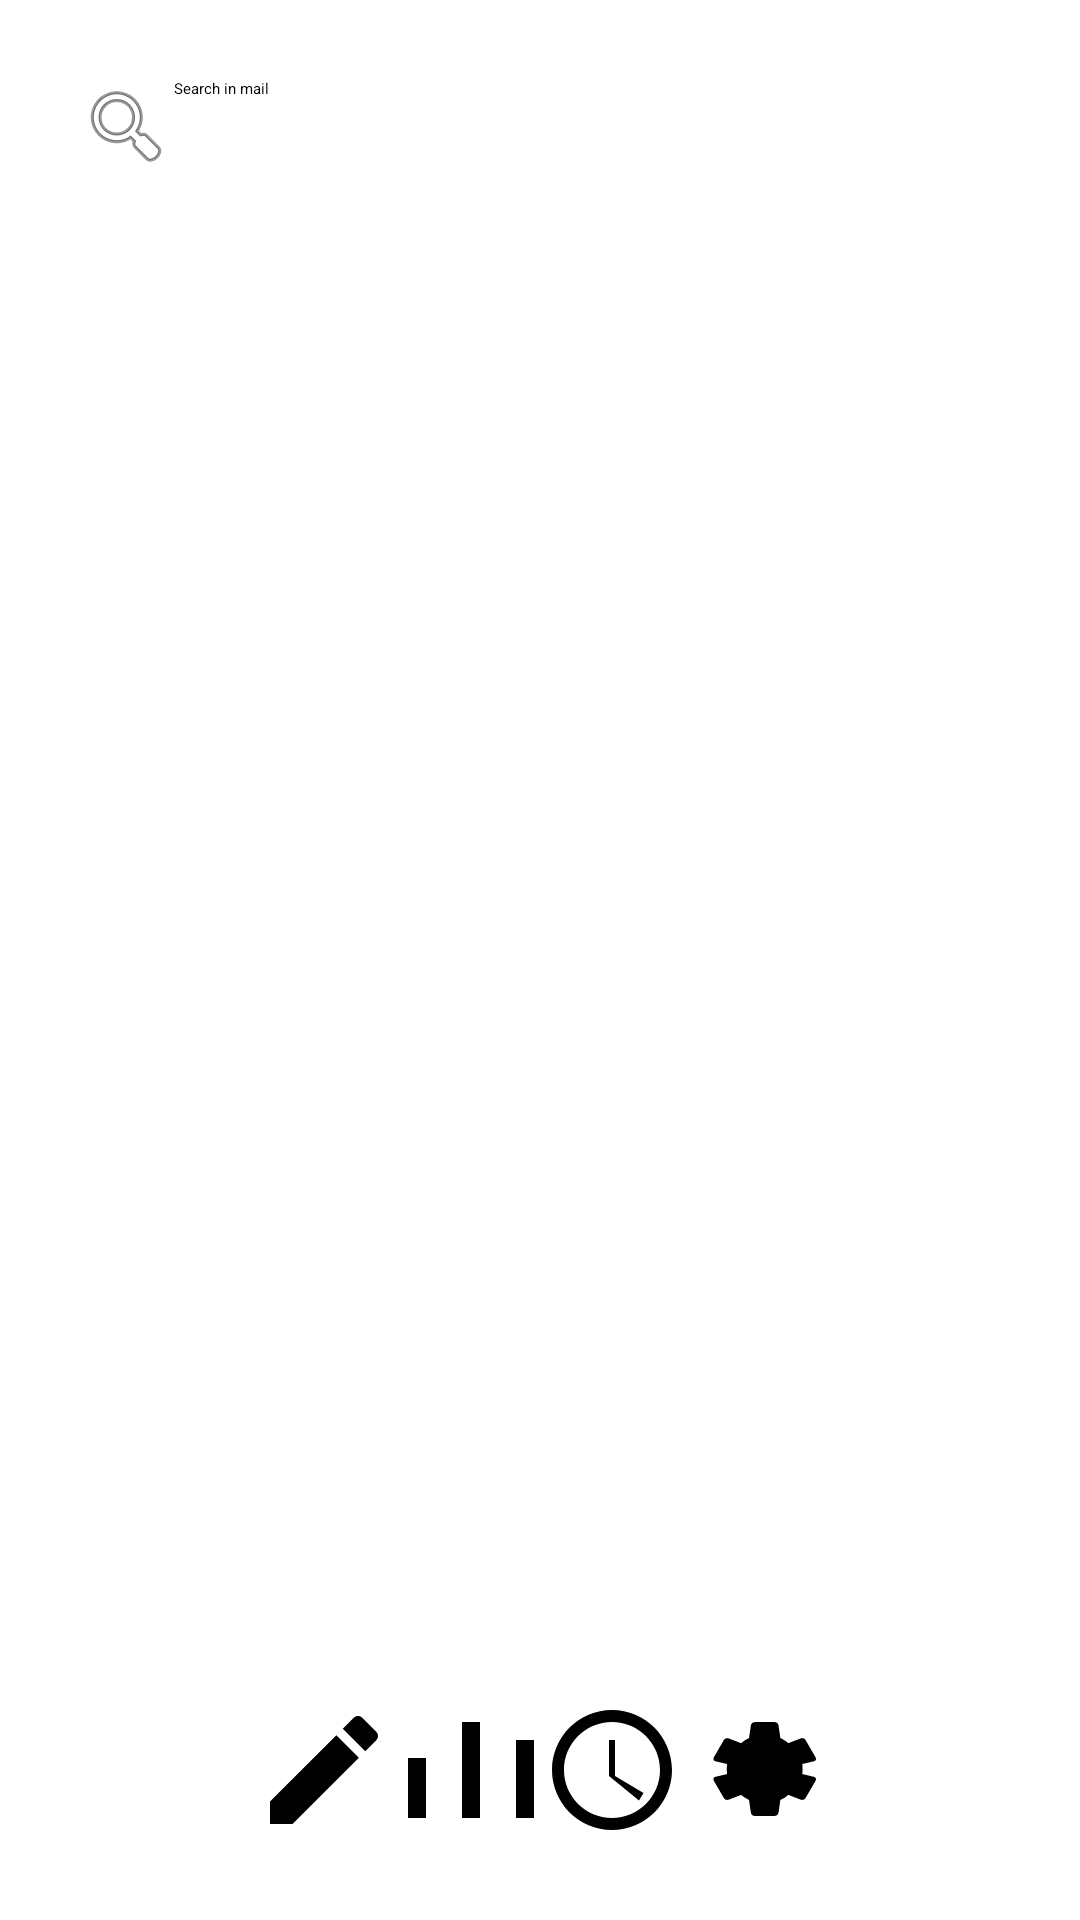

Icons on this 1080w x 1920h Android screen, each with the point to tap as (x,y):
Compose: (324,1770)
Settings: (764,1769)
Stats: (471,1770)
